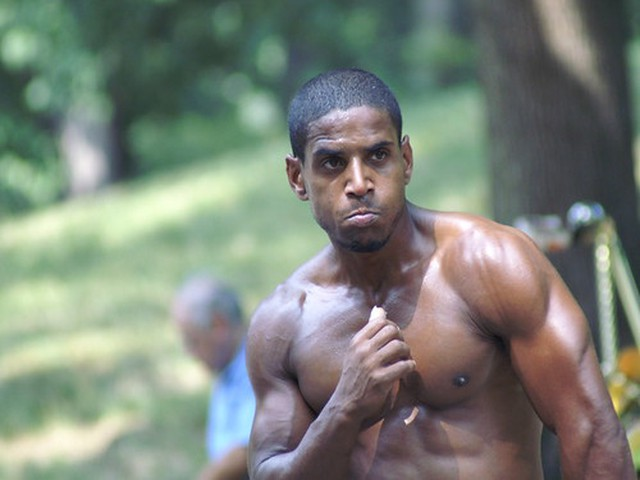Person: (258, 78, 618, 464), (166, 272, 253, 464)
